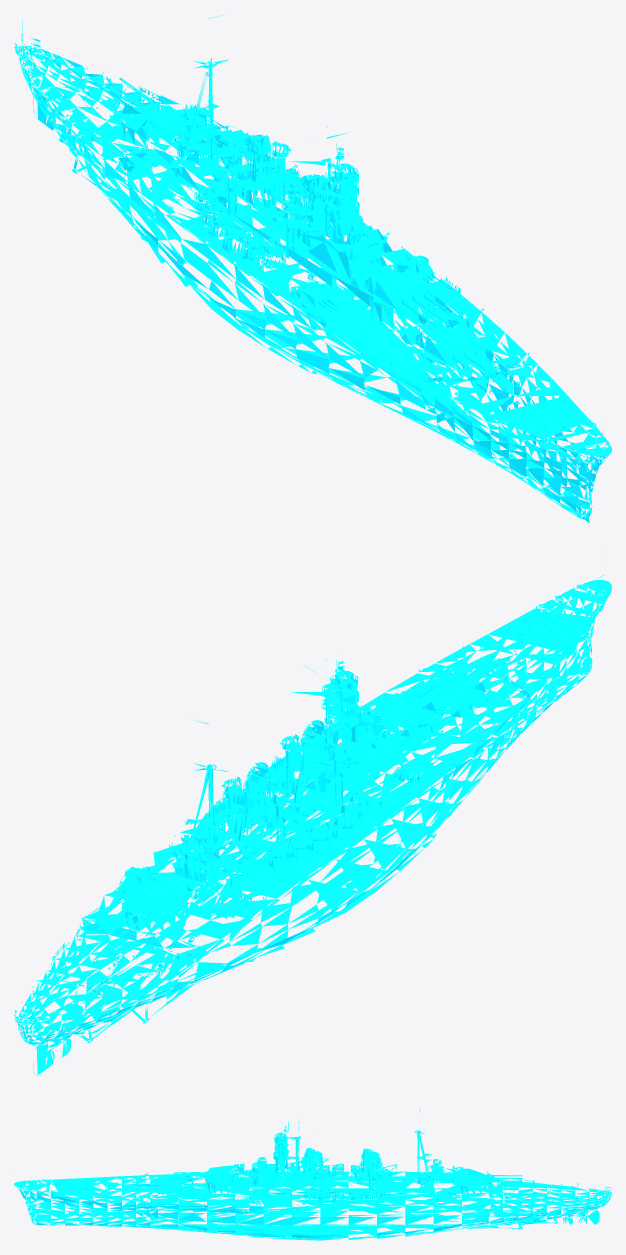
The model's file is PISB519.glb.
3 views of the same model, one above another, from view 1: azimuth 30°, elevation 25°; view 2: azimuth 150°, elevation 25°; view 3: azimuth 270°, elevation 25° (orthographic). The views are drawn at different scales.
Visible parts, largest first — view 1: hull, turret; view 2: hull, turret; view 3: hull, turret.
Boxes of the visible parts, x1,y1,x2,y2 form: hull: (14, 15, 611, 522); turret: (96, 77, 511, 382); hull: (14, 551, 611, 1075); turret: (96, 655, 511, 936); hull: (14, 1109, 611, 1240); turret: (122, 1161, 522, 1204).
Bounding box in the file's own units: 2.43 × 3.61 × 16.87.
